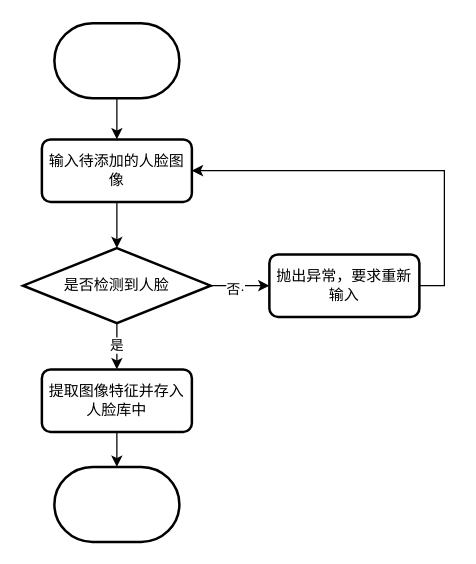
Some shapes in this 476 by 564 pixel diagram are drawn without their labels. The shapes that lost their labels are listed below. From the top down, each one's centre as x and y in pixels, then its label:
point (116, 60): 开始
point (116, 503): 结束
